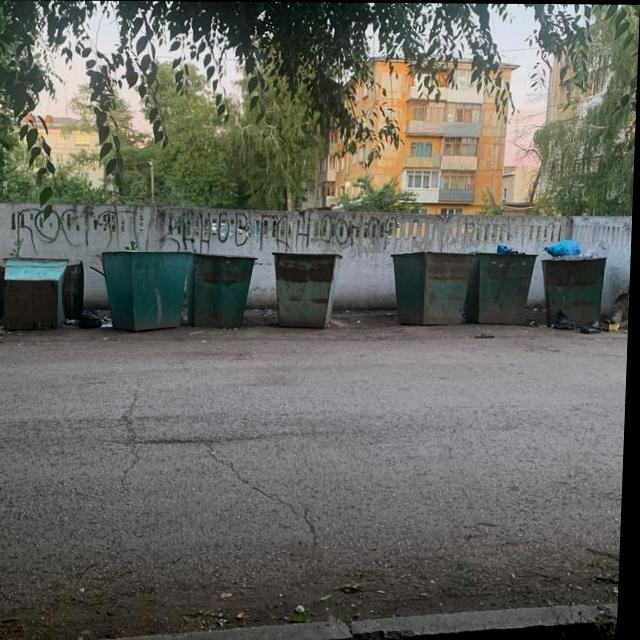Trash_Can_Empty: (104, 252, 193, 331), (393, 252, 474, 325), (189, 254, 260, 327), (273, 252, 343, 326)
Trash_Can_Full: (467, 244, 541, 322), (544, 239, 609, 326)
